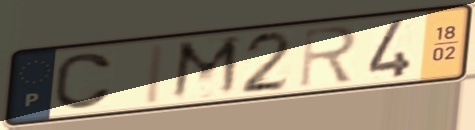2: (238, 30, 297, 95)
4: (364, 15, 415, 81)
C: (51, 50, 116, 112)
I: (140, 40, 171, 107)
M: (167, 32, 244, 104)
R: (296, 23, 361, 91)
